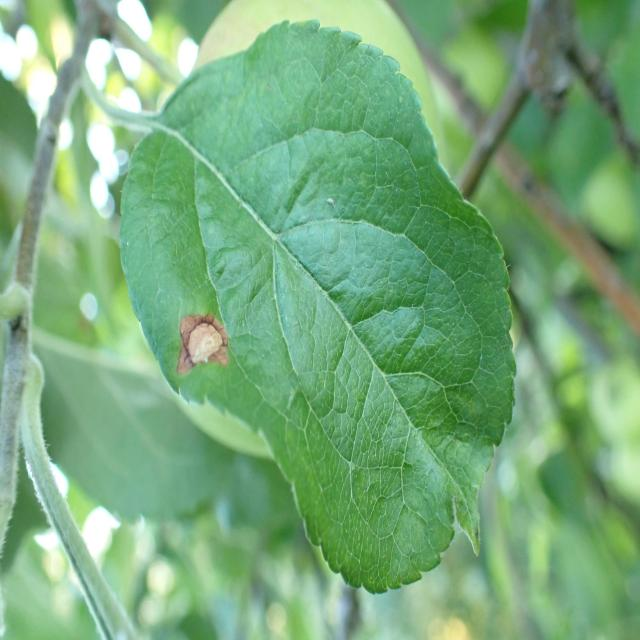frog-eye-leaf-spot: (119, 17, 516, 595)
